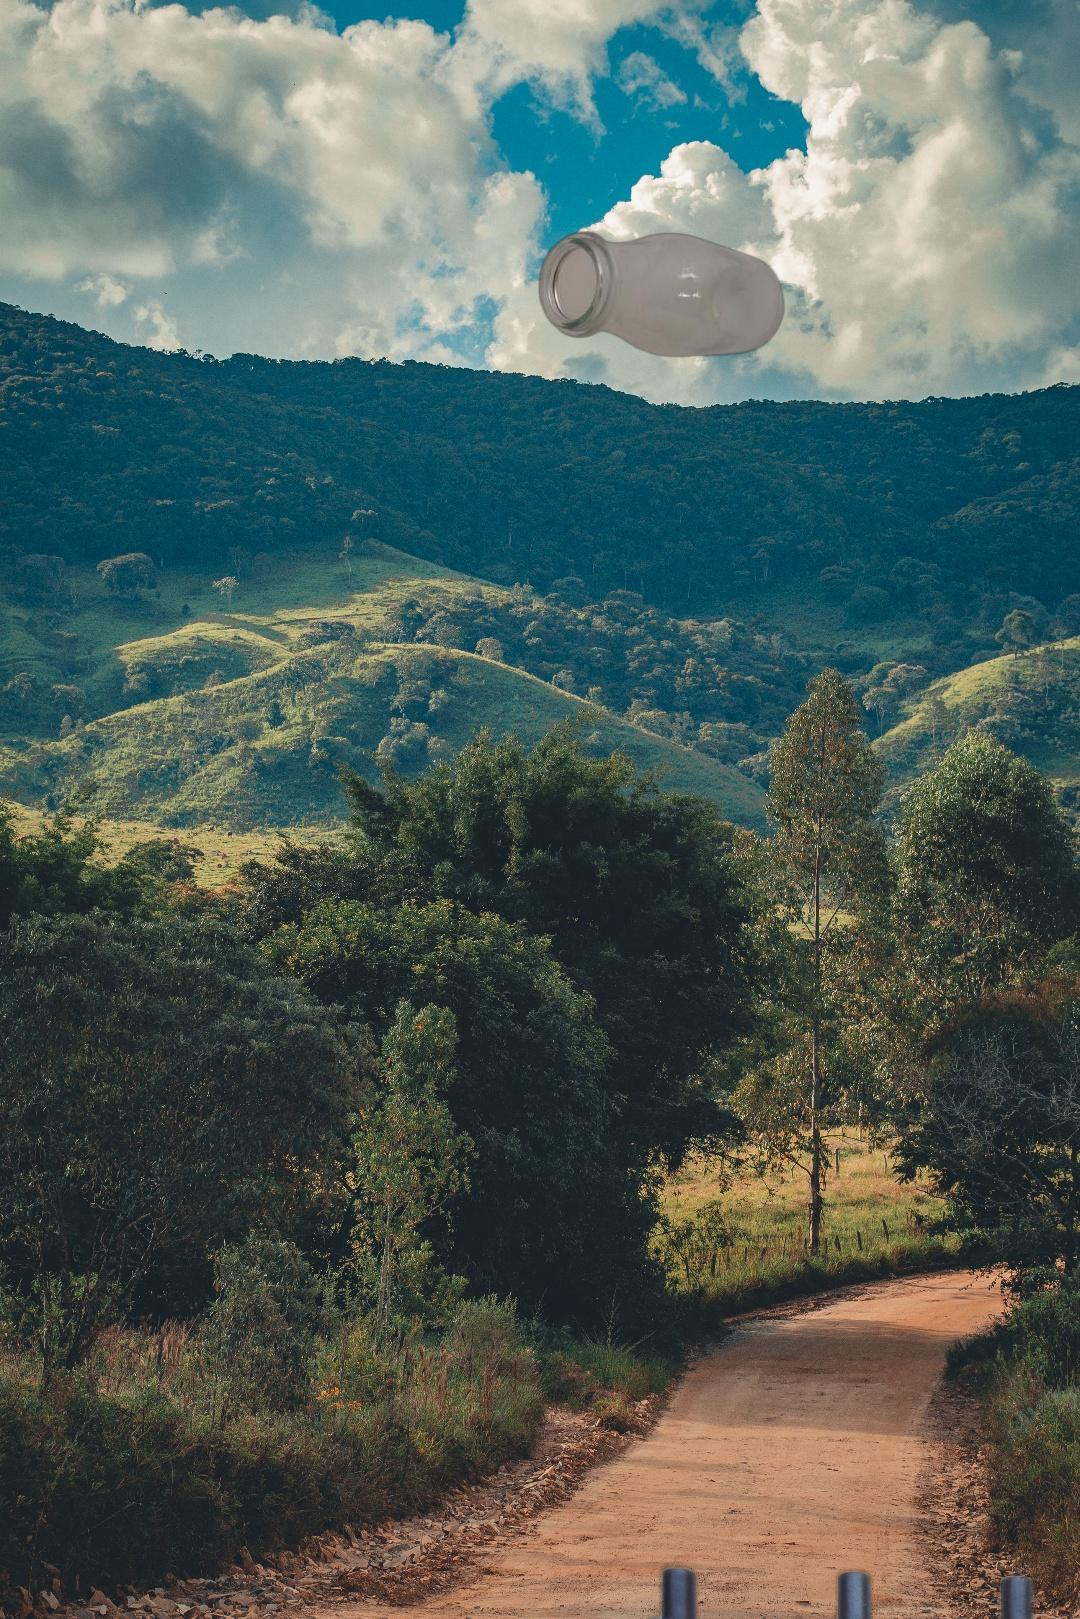glass: (534, 228, 790, 360)
penholder: (1006, 1079, 1080, 1619), (581, 1558, 1080, 1619)
